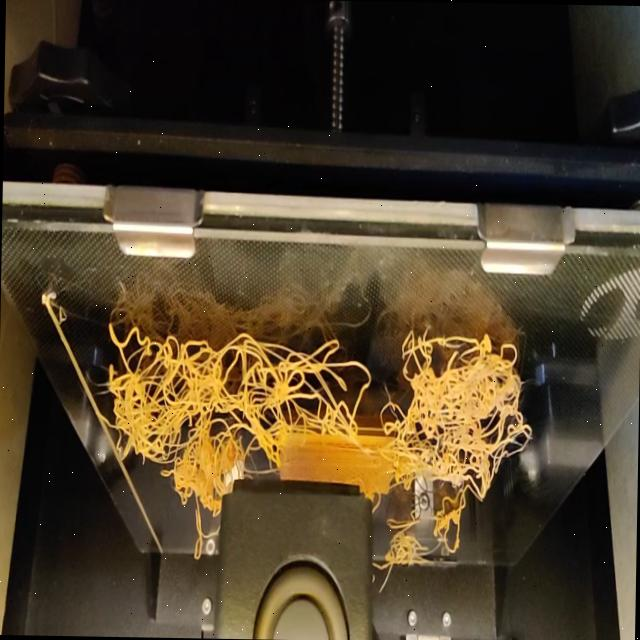spaghetti: (96, 315, 538, 514), (370, 513, 461, 594), (187, 506, 218, 564)
